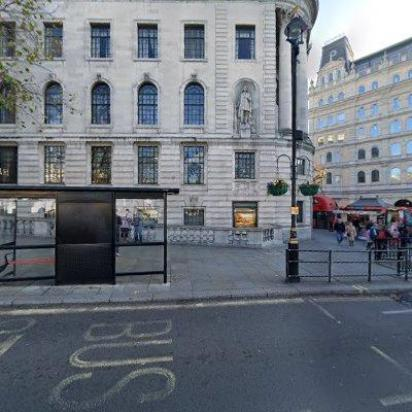moving-bus: (310, 192, 340, 230)
